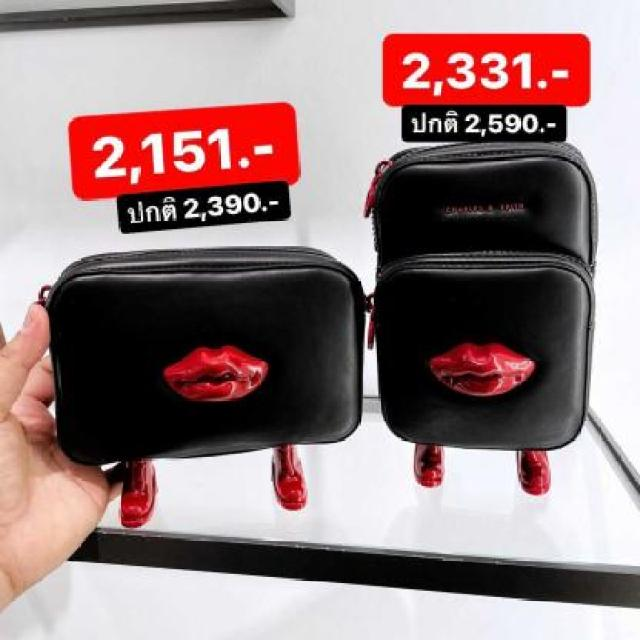Bag: (8, 232, 378, 528), (344, 121, 604, 516)
